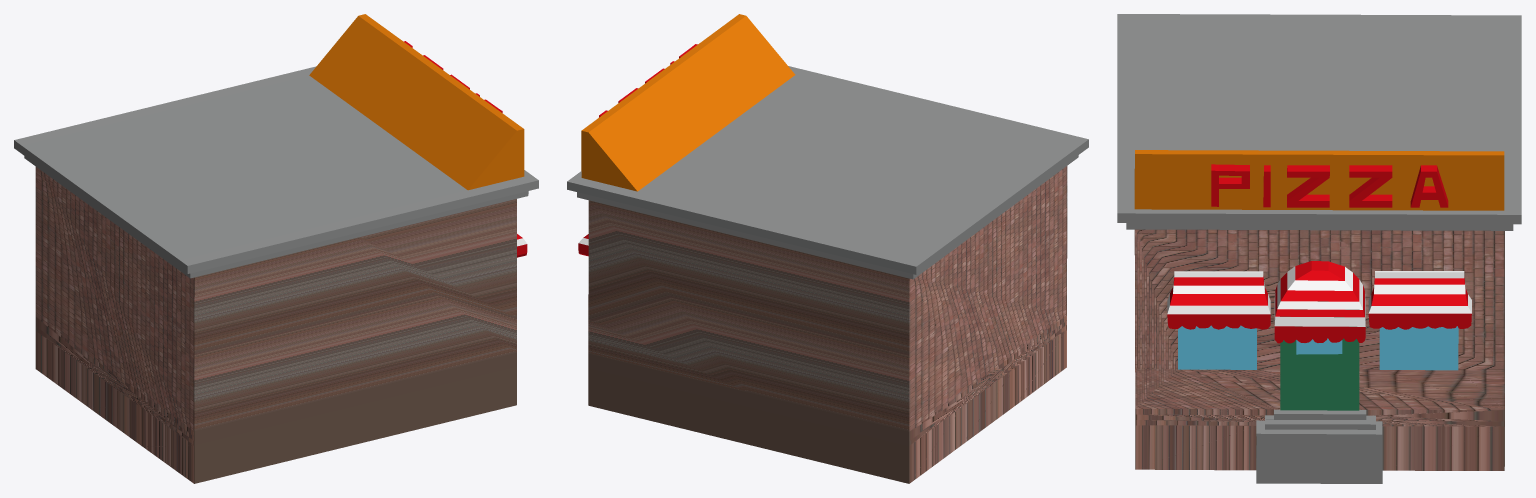
Rendered from pizzashop.fbx.
3 views of the same model, side by side, from view 1: azimuth 30°, elevation 25°; view 2: azimuth 150°, elevation 25°; view 3: azimuth 270°, elevation 25° (orthographic). The views are drawn at different scales.
Visible parts, largest first — view 1: Plane; view 2: Plane; view 3: Plane.
Part boxes in pixels (x1,y1,x2,y2): Plane: (14,14,538,483); Plane: (567,14,1088,483); Plane: (1117,14,1521,483).
Bounding box in the file's own units: 504 × 344 × 393.
Materials: 7 (1 with a texture image).
